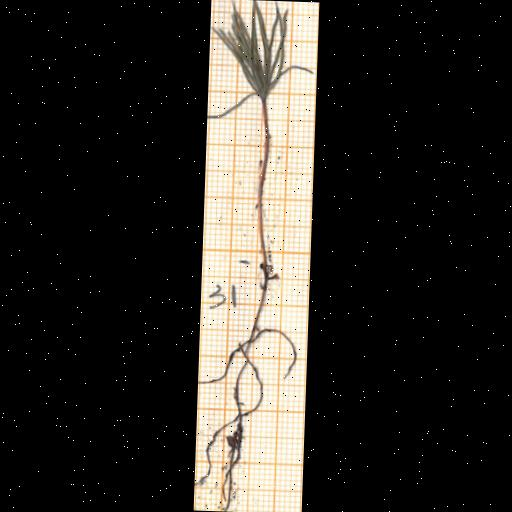flowerPinus: (213, 0, 311, 99)
rootPinus: (197, 267, 298, 511)
stemPinus: (257, 97, 271, 267)
